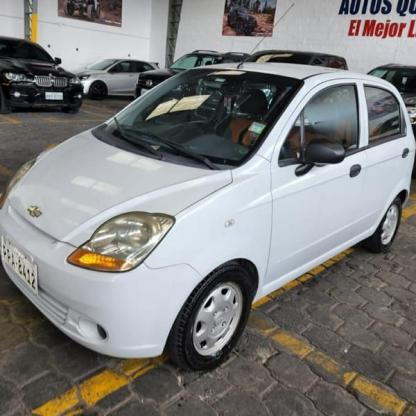Placa: (0, 233, 43, 305)
